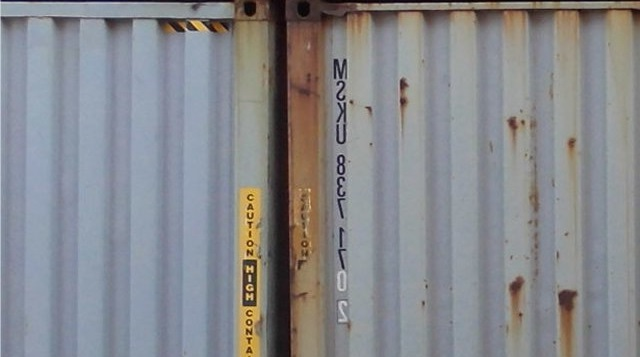container_no_door: (288, 2, 638, 357), (1, 1, 270, 355)
